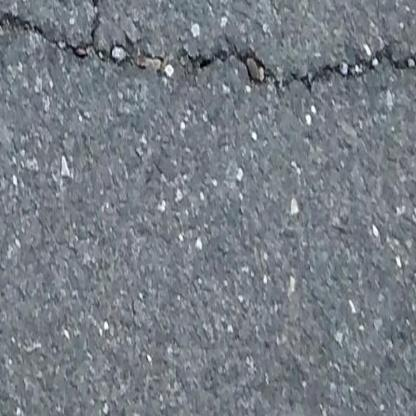Cracks: (0, 0, 416, 97)
